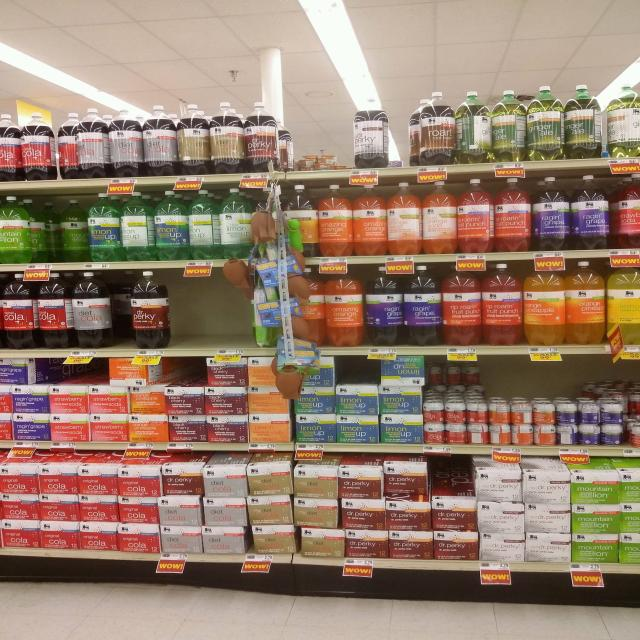void: (173, 269, 240, 347)
